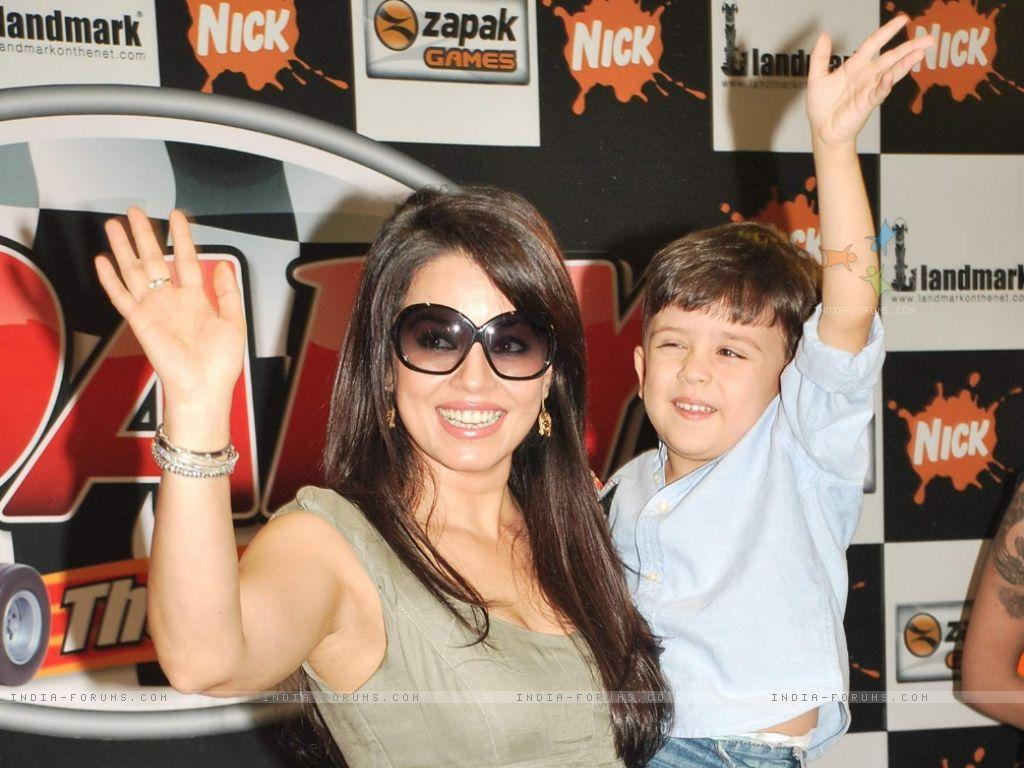face: (392, 248, 546, 472), (646, 278, 784, 460)
